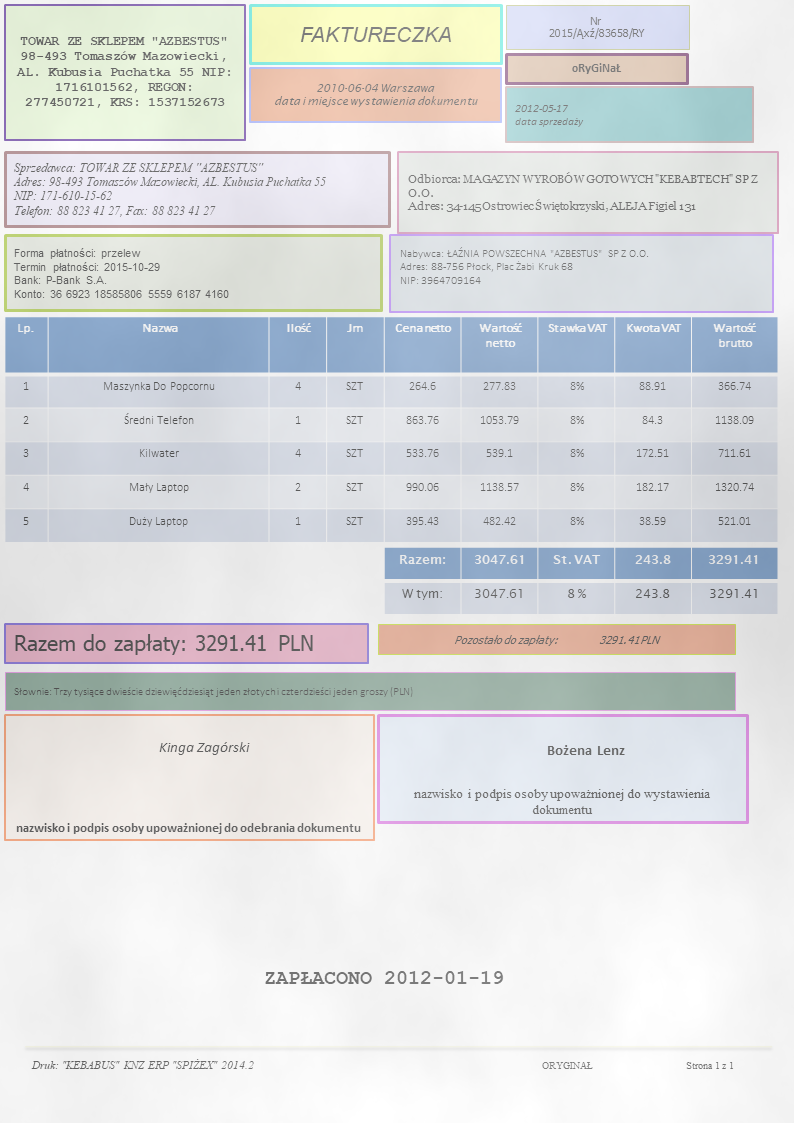Table: (4, 315, 779, 543), (383, 545, 778, 615)
TextBox: (12, 158, 327, 217), (14, 34, 232, 108), (405, 171, 759, 215), (12, 246, 232, 301), (396, 245, 651, 288), (413, 786, 711, 817), (13, 630, 315, 654), (13, 684, 415, 700), (13, 818, 360, 836), (272, 81, 481, 108), (263, 967, 505, 987), (29, 1056, 257, 1073), (452, 631, 663, 649), (298, 22, 454, 45), (540, 1058, 735, 1073), (547, 13, 647, 40), (513, 101, 584, 128), (156, 737, 251, 757), (545, 742, 628, 759), (570, 60, 623, 75)
